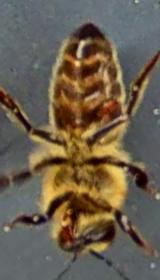varroa_mite: (97, 84, 122, 126)
